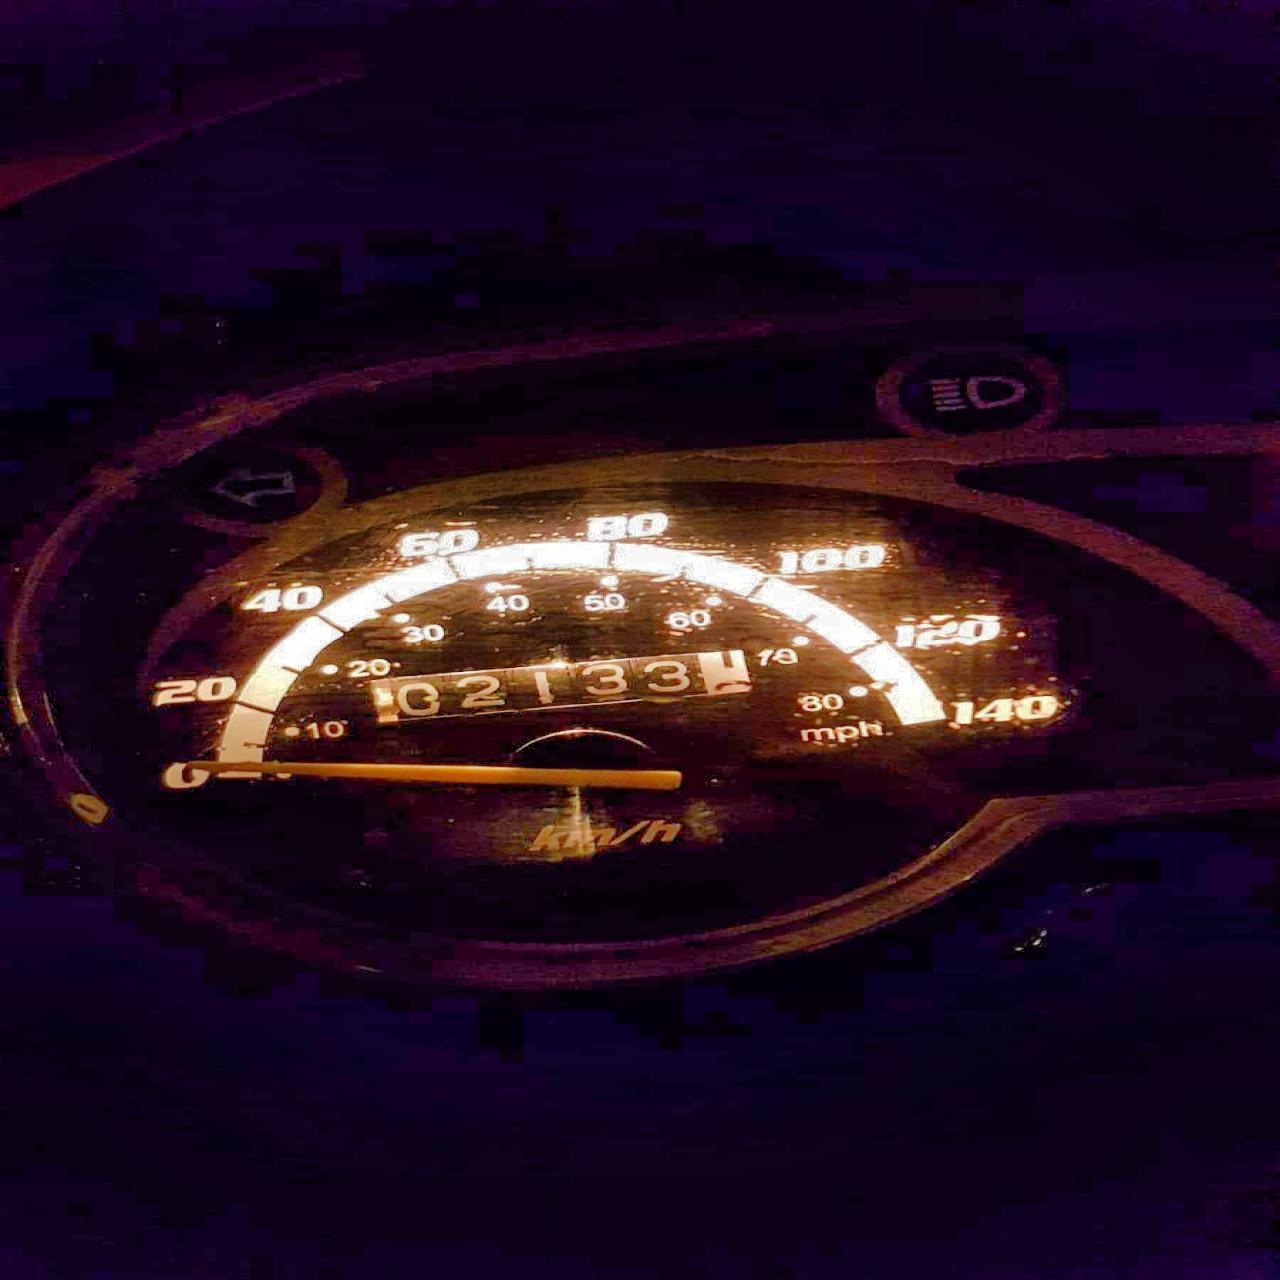0: (392, 680, 444, 719), (366, 655, 394, 674)
1: (525, 663, 560, 707), (708, 641, 747, 676)
2: (455, 667, 511, 712)
3: (641, 660, 693, 697), (574, 662, 626, 700)
odometer: (361, 645, 757, 727)
